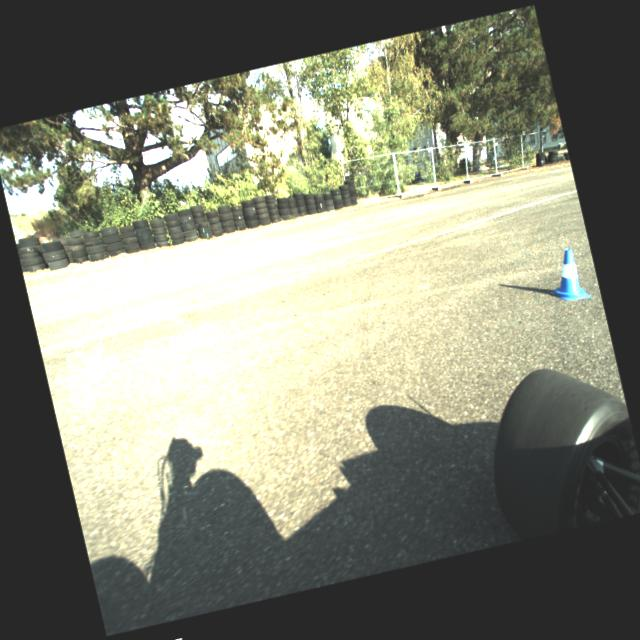blue_cone: (541, 245, 590, 305)
